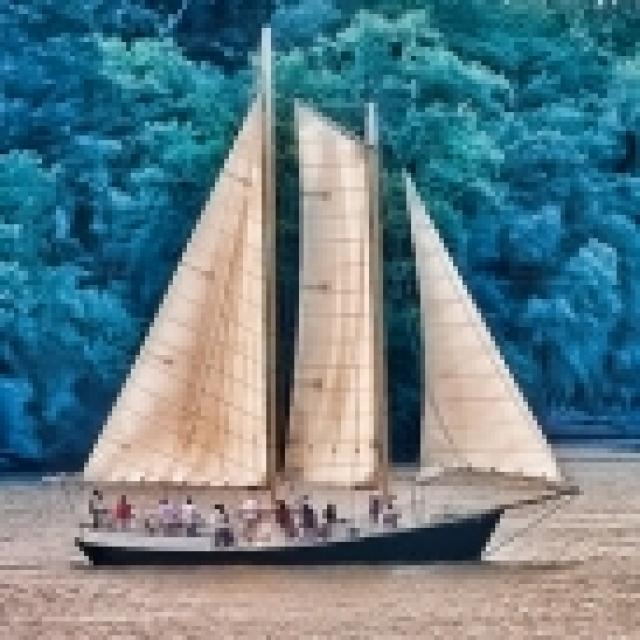Ship: (60, 51, 579, 578)
